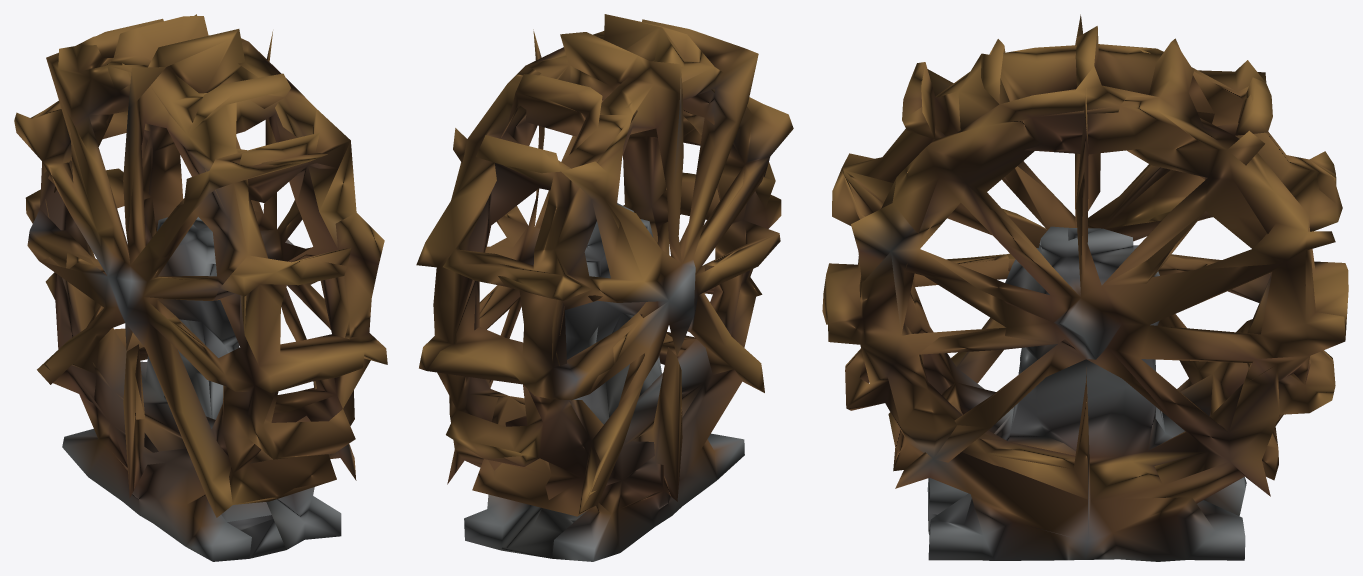
Rendered from gen3d-water-wheel-lod0.glb.
3 renders of one model, left to right at view 1: azimuth 30°, elevation 25°; view 2: azimuth 150°, elevation 25°; view 3: azimuth 270°, elevation 25°, orthographic. The views are drawn at different scales.
Parts seen in each view (by area): view 1: part_0; view 2: part_0; view 3: part_0.
Boxes of the visible parts, x1=… form: part_0: x1=14, y1=14, x2=387, y2=561; part_0: x1=416, y1=14, x2=793, y2=561; part_0: x1=822, y1=14, x2=1348, y2=561.
Bounding box in the file's own units: 0.3863 × 0.9971 × 0.9801.
